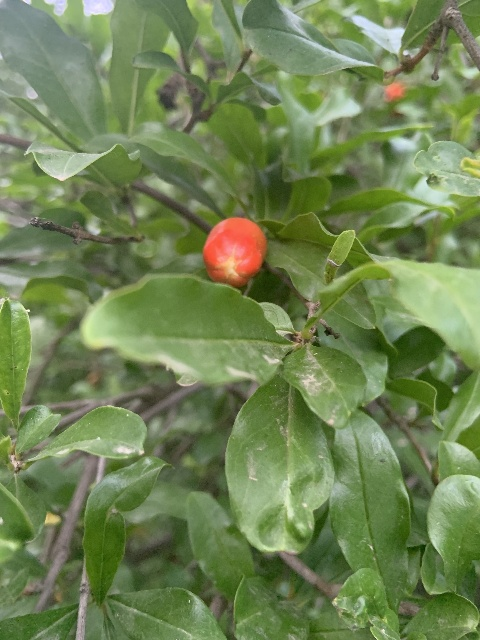bud: (203, 217, 266, 288)
